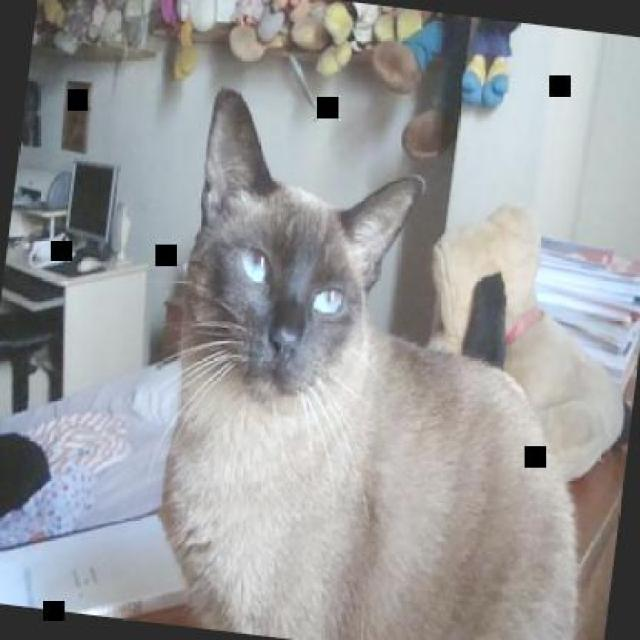cat: (138, 84, 638, 638)
